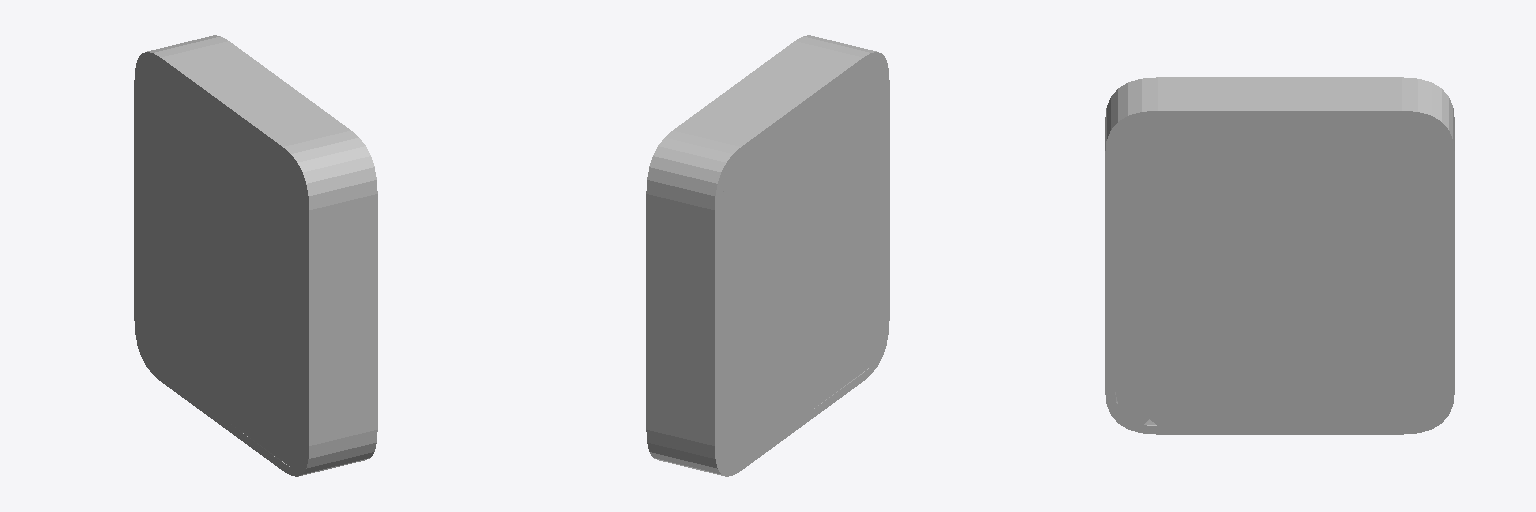
File: Window fan.obj
3 renders of one model, left to right at view 1: azimuth 30°, elevation 25°; view 2: azimuth 150°, elevation 25°; view 3: azimuth 270°, elevation 25°, orthographic.
Parts seen in each view (by area): view 1: Cylinder007, Box142, Cylinder005, Plane007, Box073; view 2: Cylinder007, Plane007, Cylinder005, Box142, Box073; view 3: Cylinder005, Cylinder007, Plane007, Box142.
Part boxes in pixels (x1,y1,x2,y2): Cylinder007: (135, 41, 377, 476); Box142: (134, 35, 377, 476); Cylinder005: (135, 56, 374, 467); Plane007: (137, 62, 303, 466); Box073: (139, 83, 153, 365); Cylinder007: (646, 41, 889, 475); Plane007: (652, 64, 884, 465); Cylinder005: (720, 61, 884, 466); Box142: (646, 35, 889, 476); Box073: (720, 206, 733, 467); Cylinder005: (1107, 93, 1444, 425); Cylinder007: (1107, 77, 1454, 434); Plane007: (1115, 90, 1448, 425); Box142: (1105, 77, 1454, 434).
Size of the model in its own units: 2169 by 9818 by 9612.